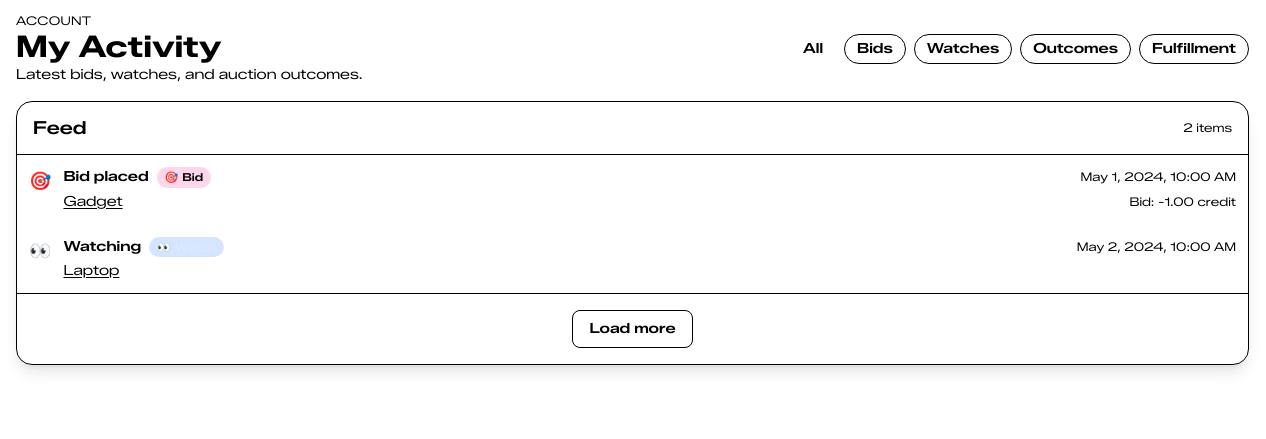
ActivityPage › appends new items on load more without duplicates
This screenshot has width=1266, height=439.
expect the link "Gadget" is shown: met, box x1=64 y1=192 x2=123 y2=212
Click the button "Load more": (632, 329) x1=572 y1=310 x2=693 y2=348
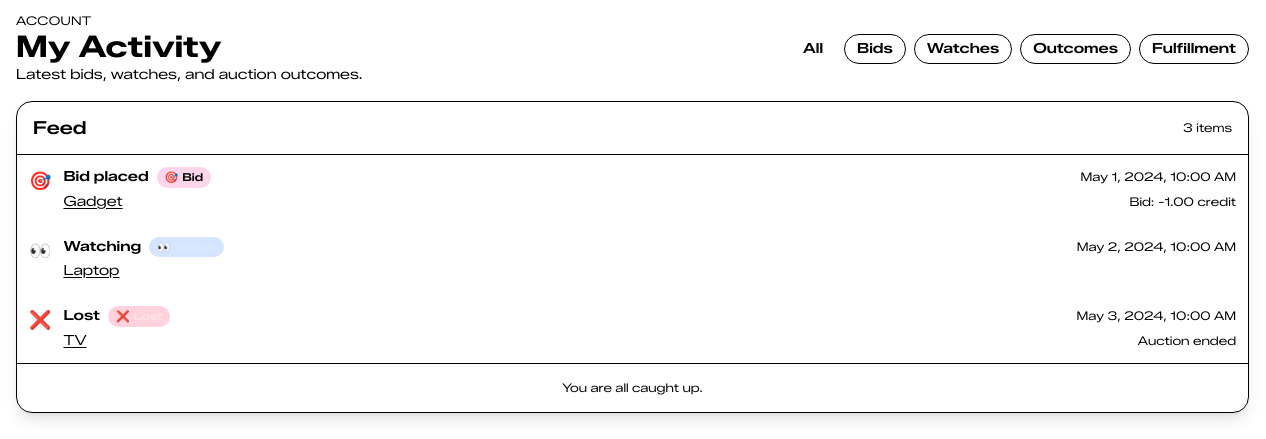
expect the link "TV" is shown: met, box x1=64 y1=330 x2=87 y2=350
expect the number of links "Laptop" is 1: met, box x1=64 y1=261 x2=120 y2=281
